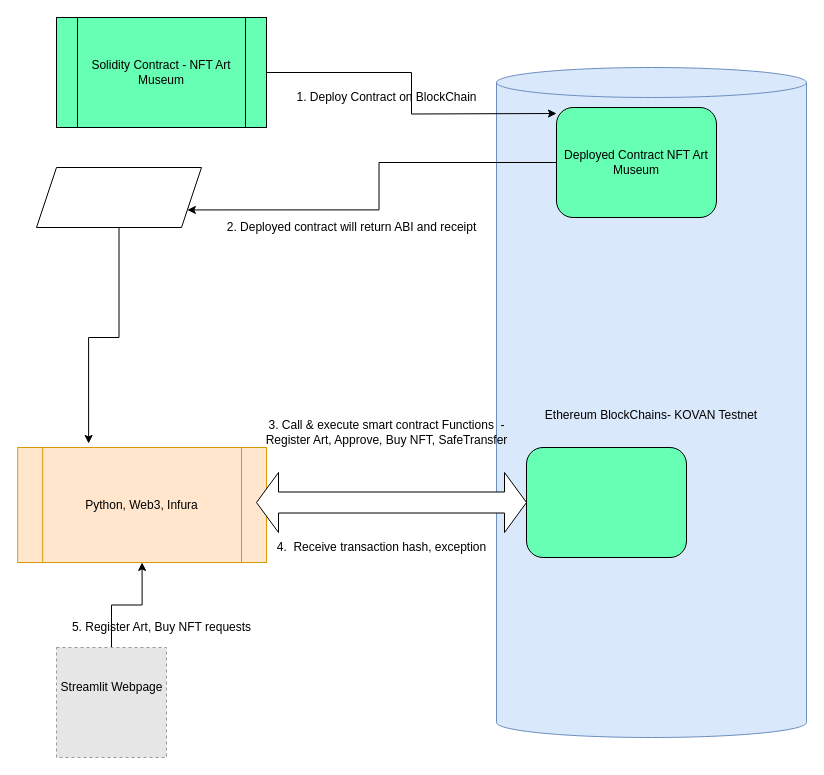
The diagram is 824 pixels wide and 775 high, and some of its shapes have lost their labels. Grey dashed boxes stand in for pictures. Each missing label, with the centre of its shape:
ABI and Receipt: the point at 119,197
Deployed Contract NFT Art Museum INSTANCE: the point at 606,502
